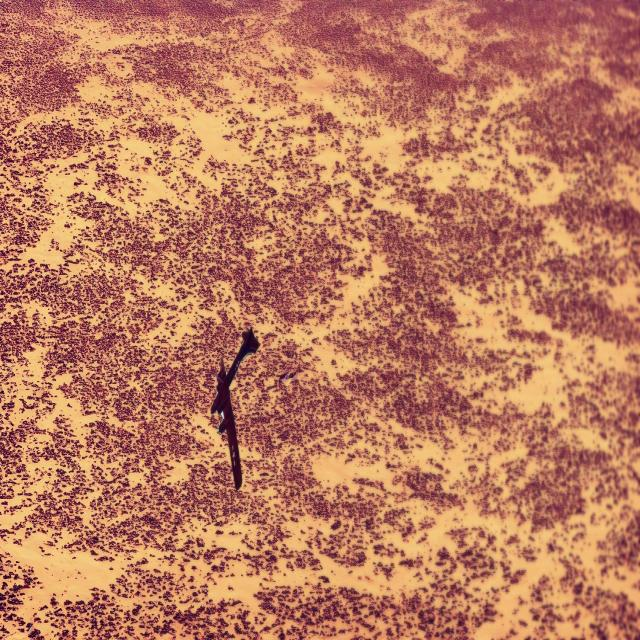airplane: (210, 326, 259, 491)
